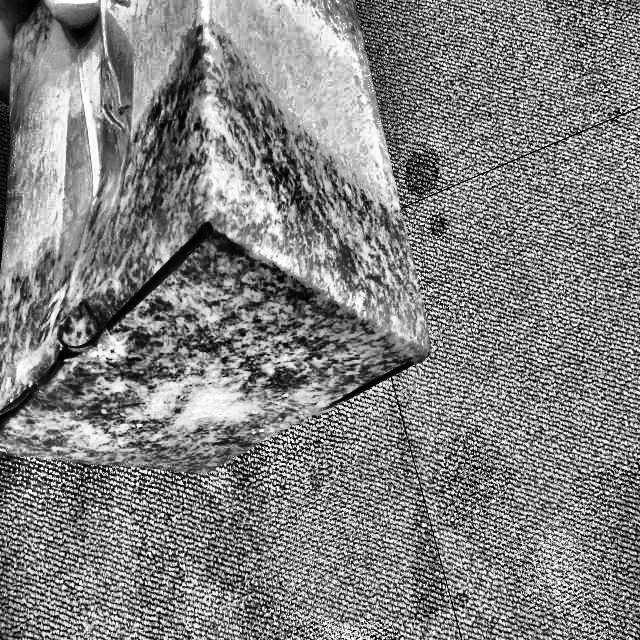box: (0, 0, 432, 480)
wet: (0, 26, 428, 471)
